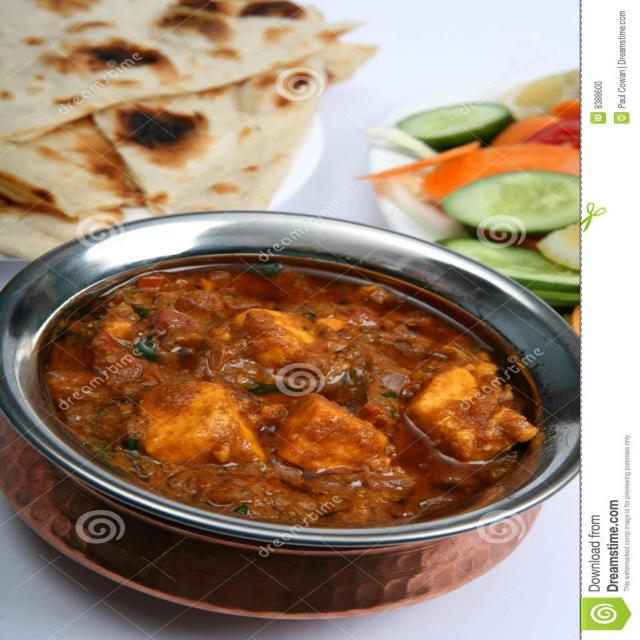roti: (0, 8, 238, 182)
